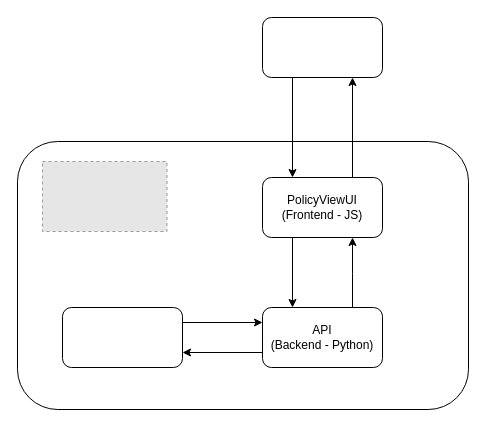
This 486x427 diagram has some shape labels left out. Grey dashed boxes stand in for pictures. The centre of each missing label's shape, as x and y in pixels:
"Database (Postgres)" goes at (x=122, y=337).
"User" goes at (x=322, y=47).
